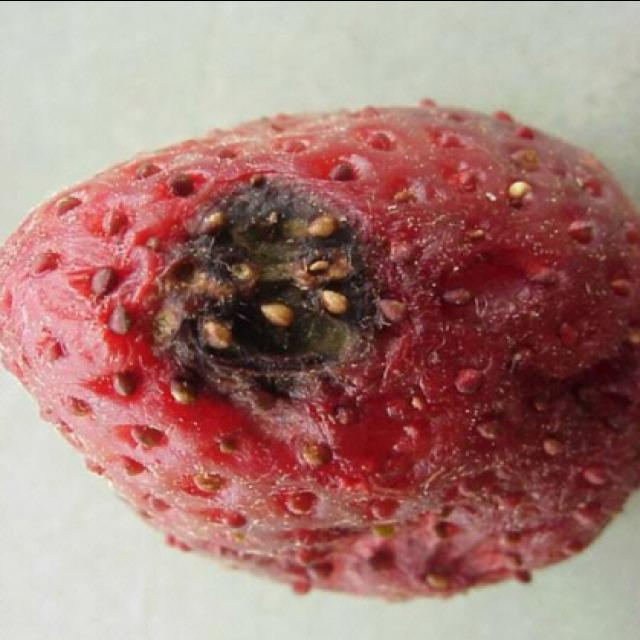Anthracnose Fruit Rot: (143, 163, 414, 423)
